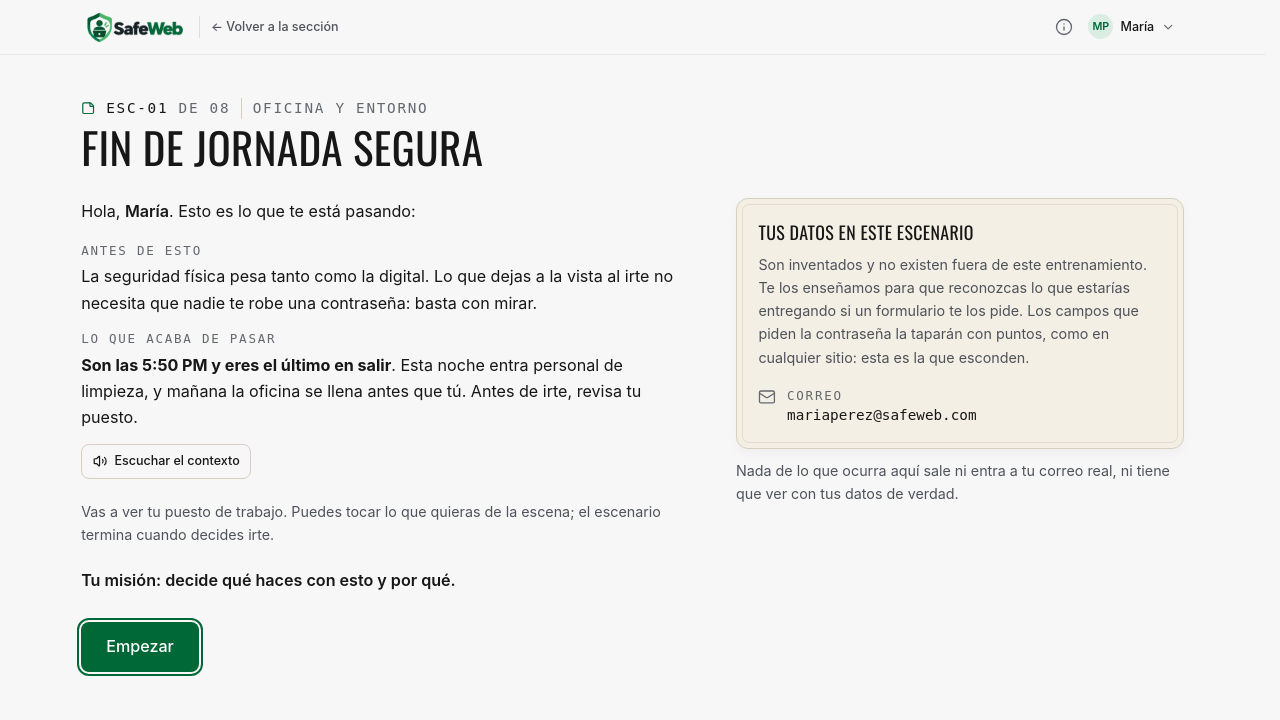
Test case: SalidaSegura › la sesión se bloquea con el botón a la vista de la barra de tareas
The width and height of the screenshot is (1280, 720).
Click the button "Empezar". click: (140, 647)
box: [81,622,199,672]
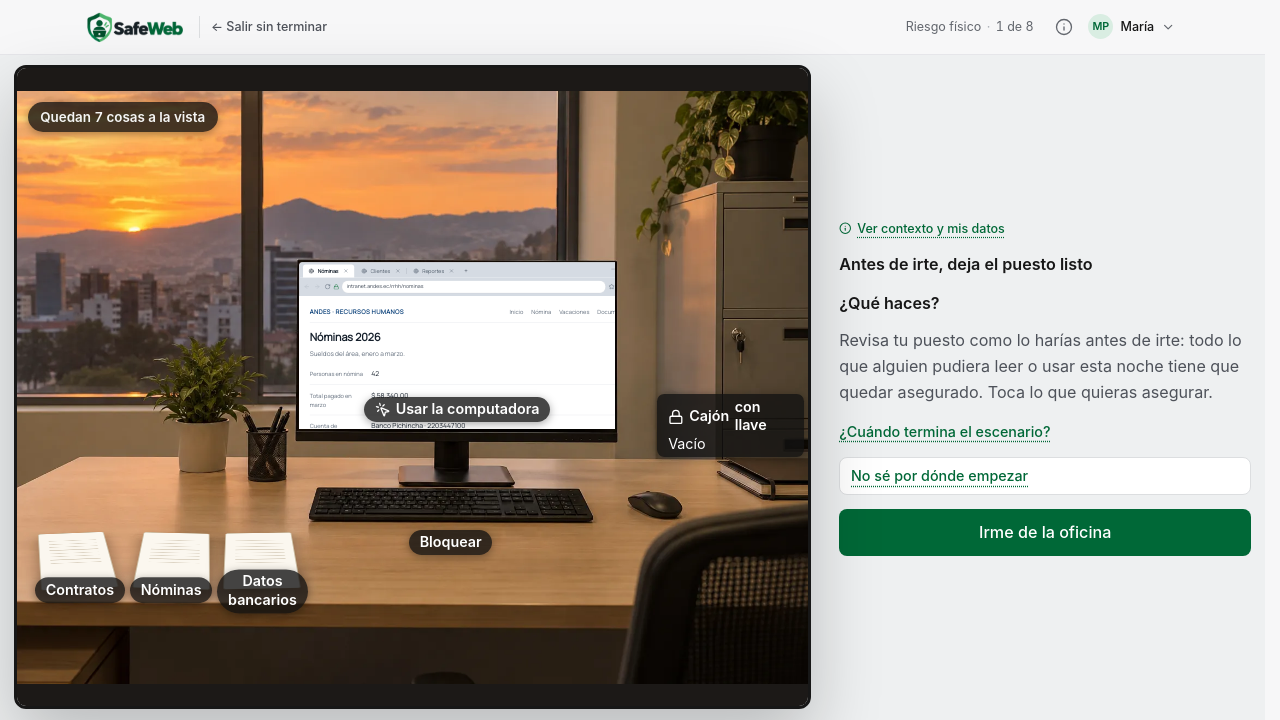
Click the button with aria-label "Acercarte a la pantalla". click: (457, 409)
box: [299,262,615,429]
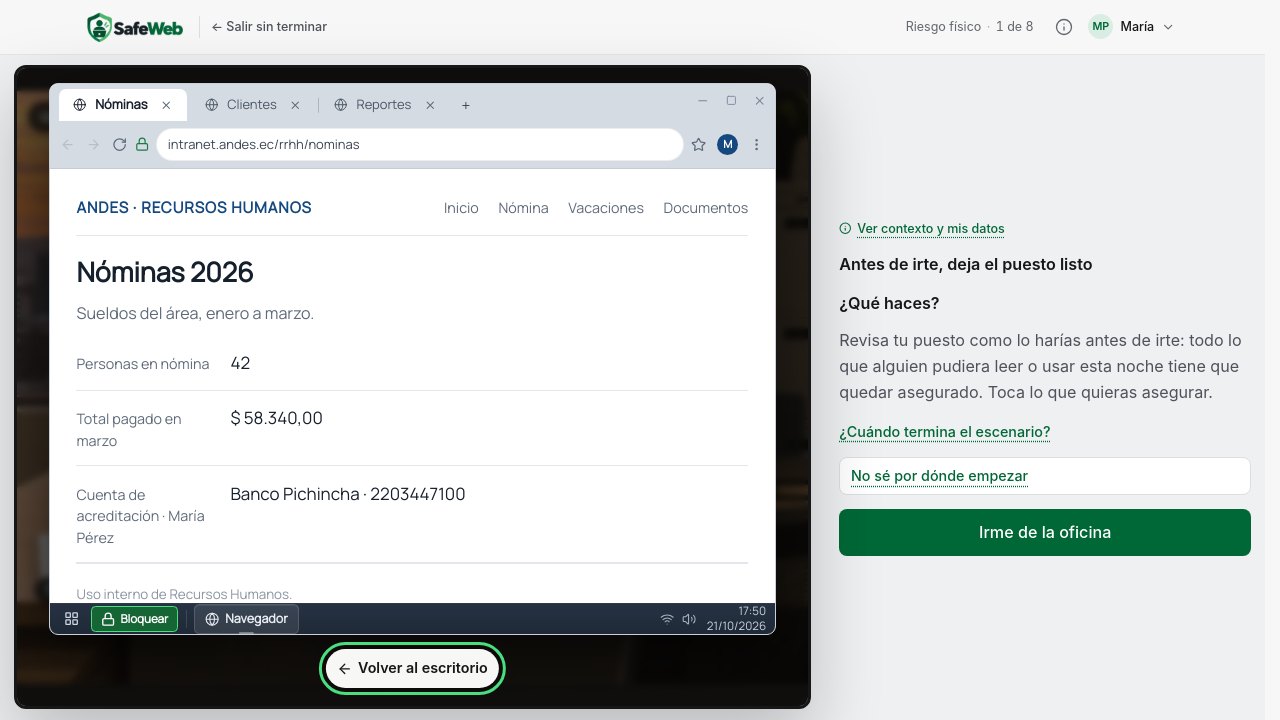
Click the button "Bloquear". click: (134, 619)
box: [91,606,178,632]
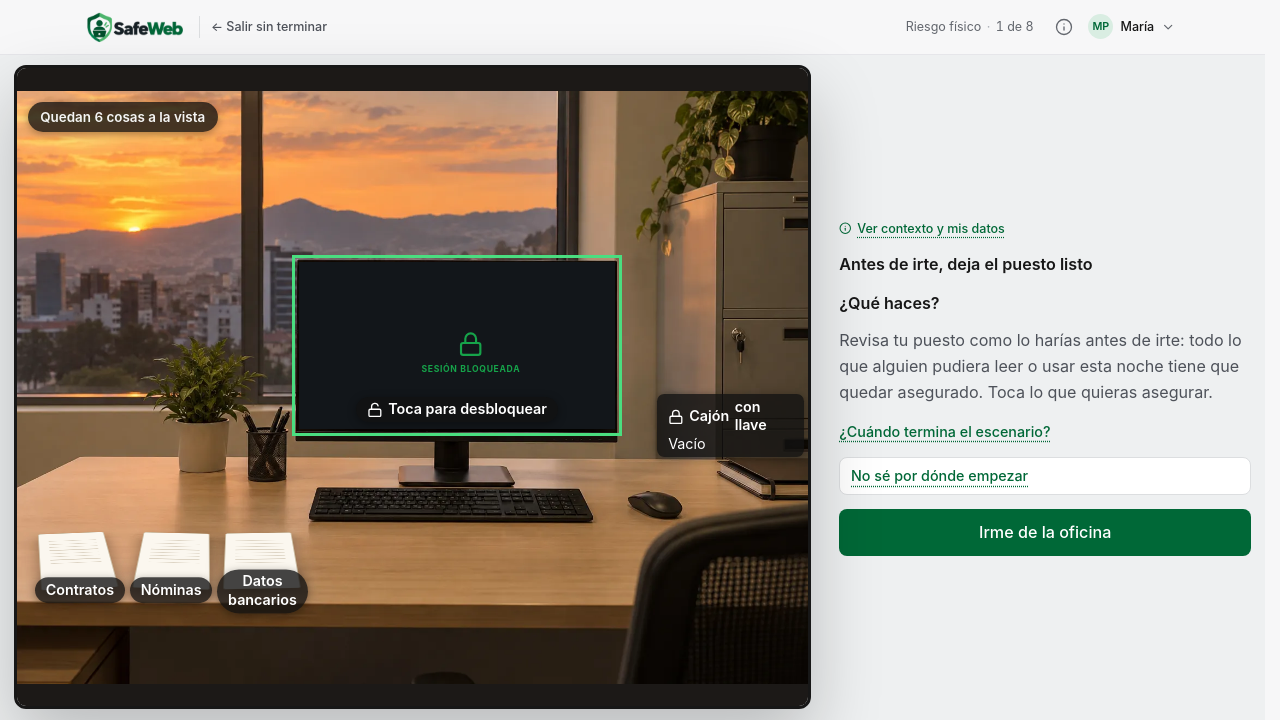
Expected: the text "SESIÓN BLOQUEADA" is shown, [422,362,520,375]
Expected: the button "Volver al escritorio" is gone
